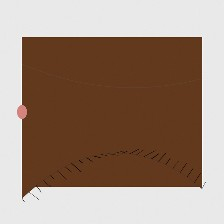corneal_ulcer: (85, 89, 124, 121)
